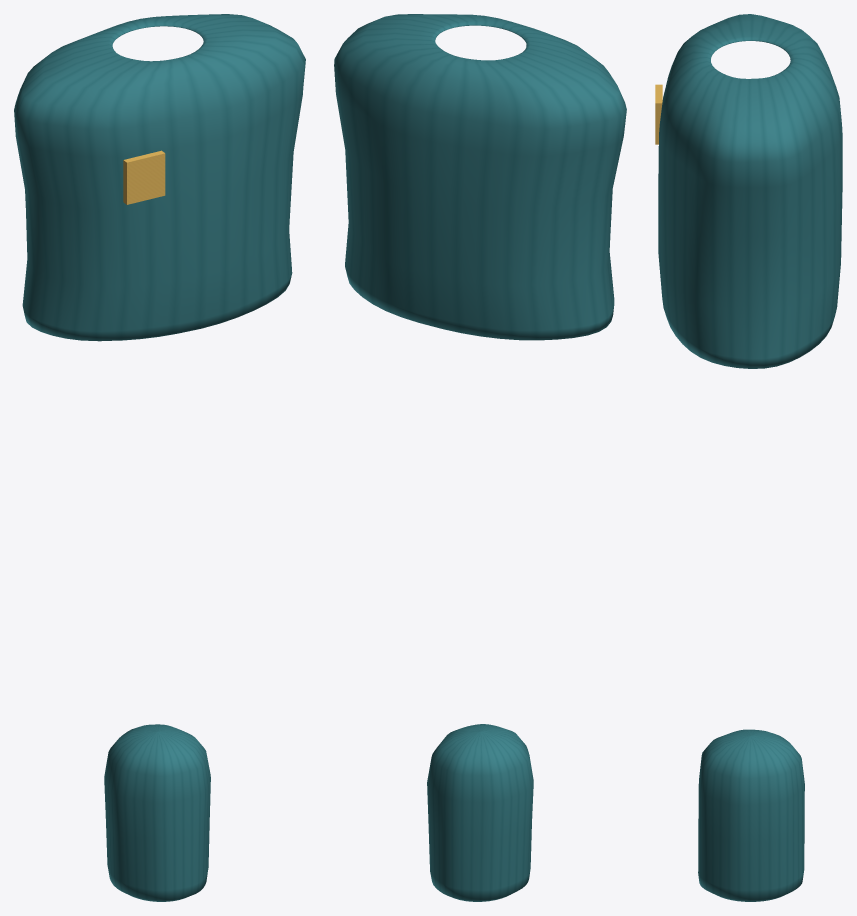
Rendered from reference_pocket_tee.gltf.
3 renders of one model, left to right at view 1: azimuth 30°, elevation 25°; view 2: azimuth 150°, elevation 25°; view 3: azimuth 270°, elevation 25°, orthographic.
Parts seen in each view (by area): view 1: Torso, SleeveL; view 2: Torso, SleeveL; view 3: Torso, SleeveL.
Part boxes in pixels (left/top/right/bottom): Torso: left=14, top=14, right=305, bottom=341; SleeveL: left=104, top=724, right=210, bottom=901; Torso: left=334, top=14, right=626, bottom=340; SleeveL: left=427, top=724, right=533, bottom=901; Torso: left=655, top=14, right=842, bottom=368; SleeveL: left=698, top=729, right=804, bottom=901.
Size of the model in its own units: 0.5276 by 1.53 by 0.3143.
2 materials, 2 textured.
